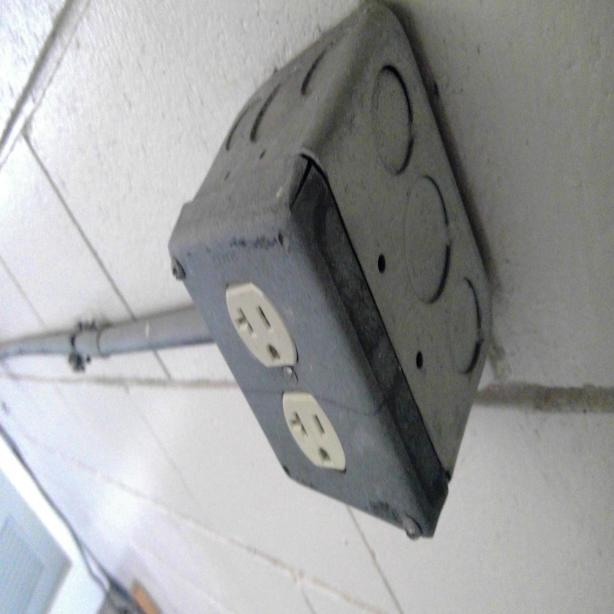typeb: (282, 391, 337, 477), (233, 287, 283, 368)
